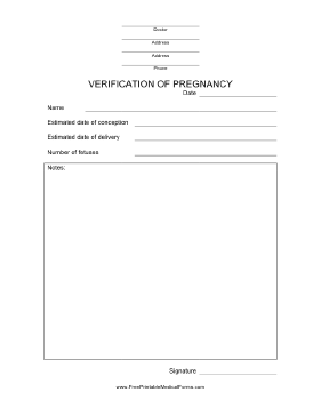textline: (80, 103, 279, 114), (130, 147, 281, 159), (130, 135, 279, 144), (134, 121, 281, 130), (198, 365, 281, 379), (119, 33, 201, 43), (120, 21, 205, 30), (198, 90, 283, 98), (119, 48, 205, 55), (117, 62, 202, 69)
